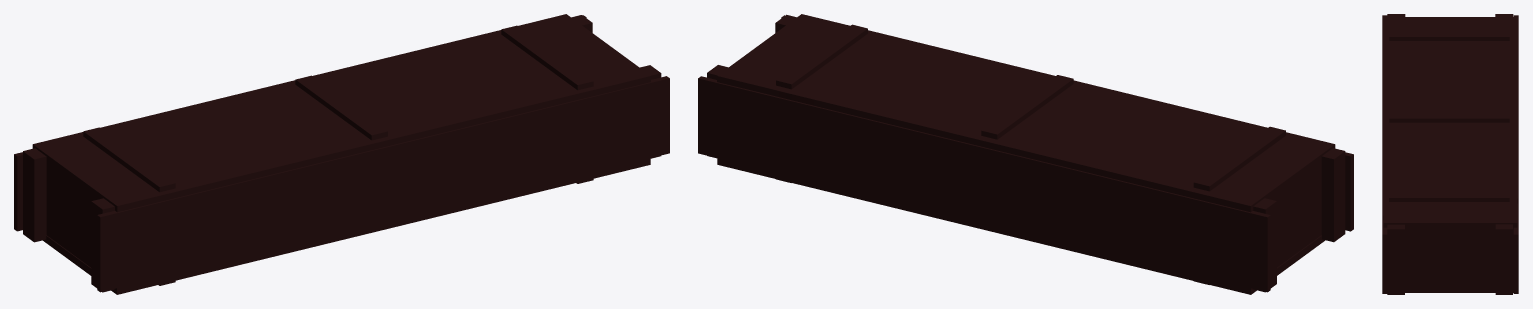
3 renders of one model, left to right at view 1: azimuth 30°, elevation 25°; view 2: azimuth 150°, elevation 25°; view 3: azimuth 270°, elevation 25°, orthographic. The views are drawn at different scales.
Visible parts, largest first — view 1: Box034; view 2: Box034; view 3: Box034.
Part boxes in pixels (left/top/right/bottom): Box034: left=14, top=14, right=669, bottom=294; Box034: left=698, top=14, right=1353, bottom=294; Box034: left=1382, top=14, right=1518, bottom=294.
Size of the model in its own units: 2 by 0.332 by 0.524.
